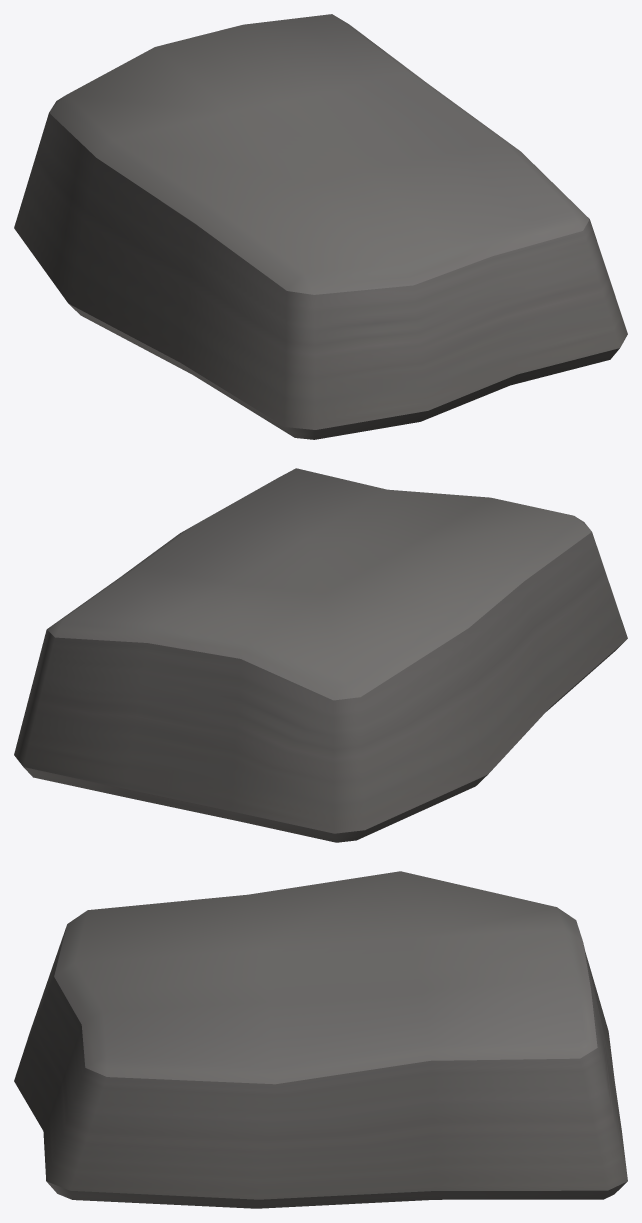
Rendered from StoneBlock_2_2.glb.
3 views of the same model, one above another, from view 1: azimuth 30°, elevation 25°; view 2: azimuth 150°, elevation 25°; view 3: azimuth 270°, elevation 25° (orthographic). The views are drawn at different scales.
Parts seen in each view (by area): view 1: StoneBlock_2_2; view 2: StoneBlock_2_2; view 3: StoneBlock_2_2.
Boxes of the visible parts, x1,y1,x2,y2 form: StoneBlock_2_2: (14,14,627,439); StoneBlock_2_2: (14,468,627,842); StoneBlock_2_2: (14,871,627,1208).
Bounding box in the file's own units: 0.6038 × 0.2442 × 0.8012.
1 material, 1 textured.
